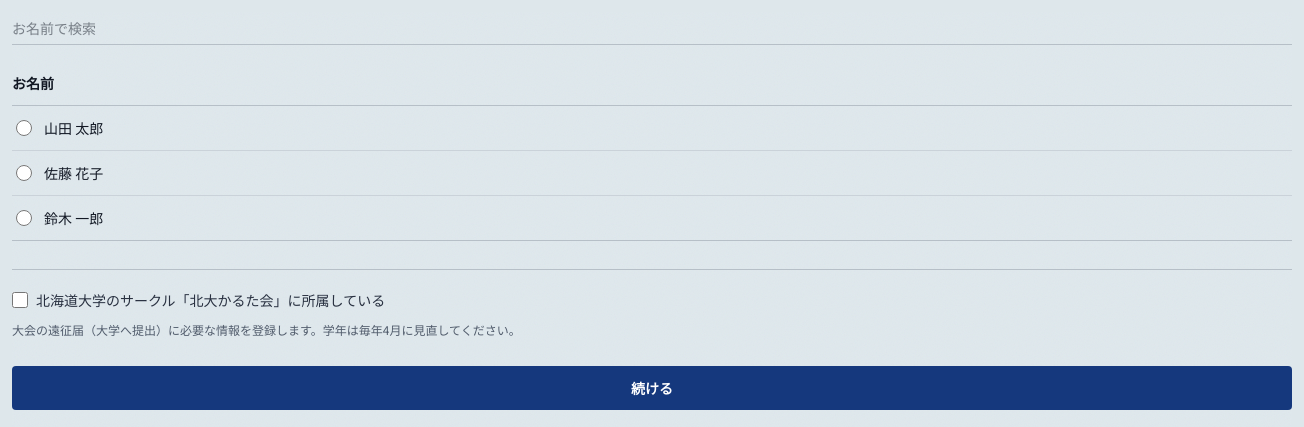
it: RosterClaimForm › 検索欄に「山田」と入れると、他の候補のラジオが消える
In the search field named "会員を検索": (652, 28) [12, 12, 1292, 45], type "山田"
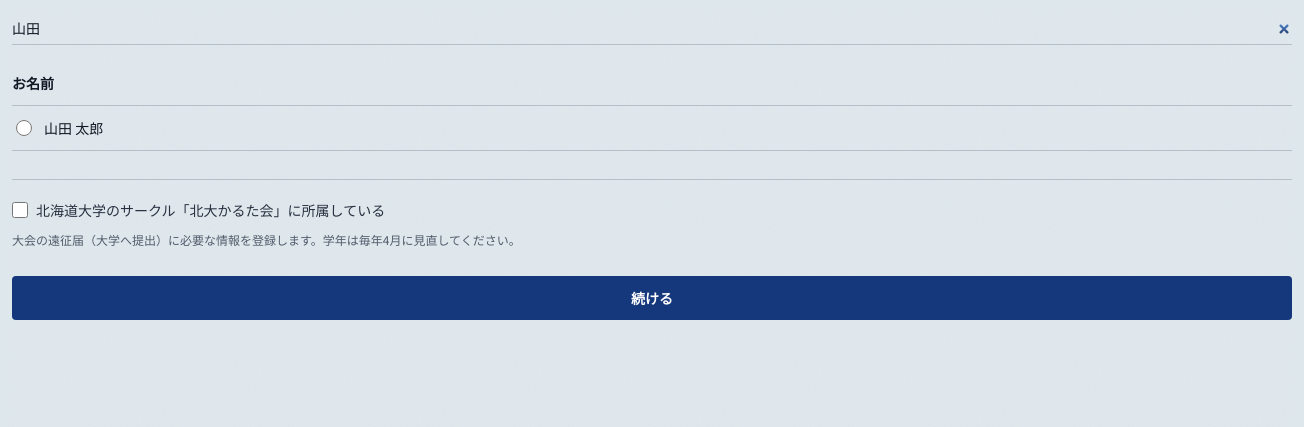
Expected: the radio button labelled "山田 太郎" is shown, [16, 120, 32, 136]
Expected: the text "佐藤 花子" is gone
Expected: the text "鈴木 一郎" is gone
